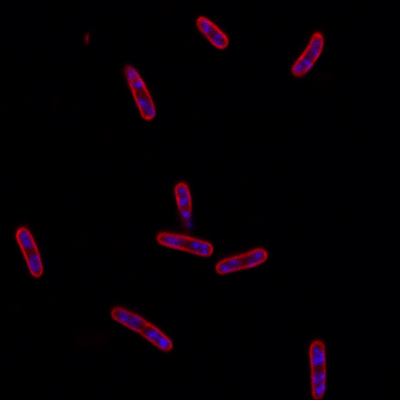Control: (109, 306, 174, 352), (289, 30, 325, 77), (155, 230, 213, 259), (214, 246, 270, 275), (15, 226, 45, 278), (194, 14, 229, 52), (308, 337, 328, 399)
Oblique: (118, 62, 157, 122), (172, 180, 195, 234)
